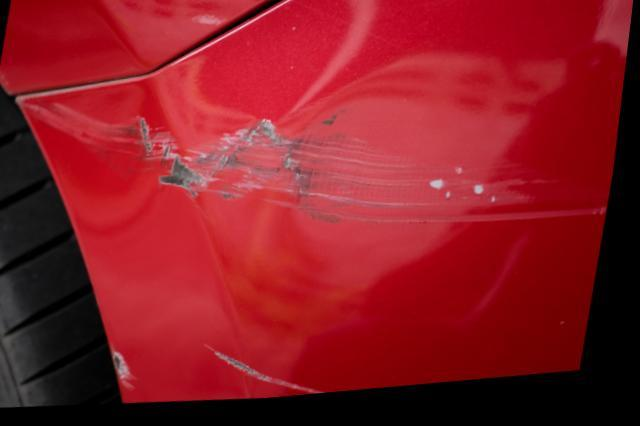scratch: (26, 101, 617, 243), (207, 349, 342, 401), (120, 347, 145, 394)
